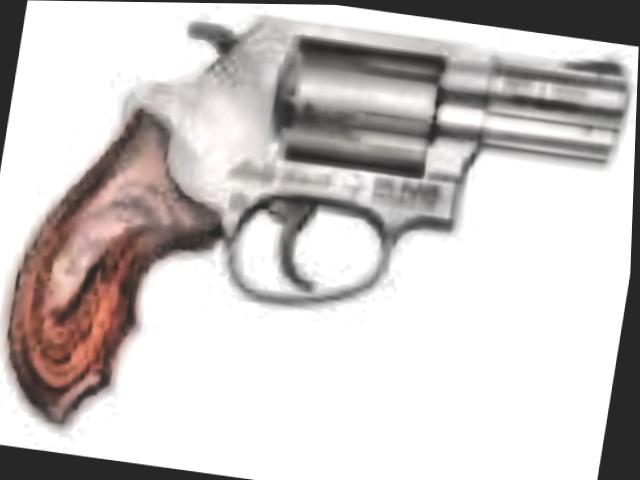pistol: (0, 0, 627, 480)
